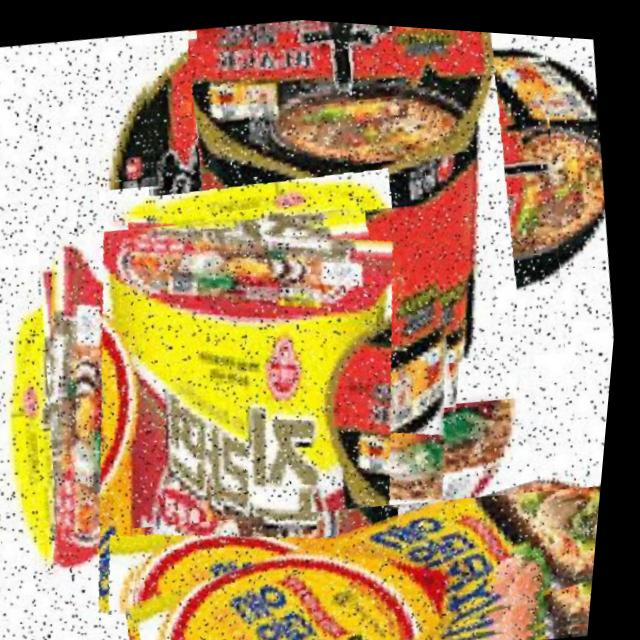Miscellaneous: (14, 170, 522, 640), (111, 7, 593, 406), (130, 447, 610, 640)
